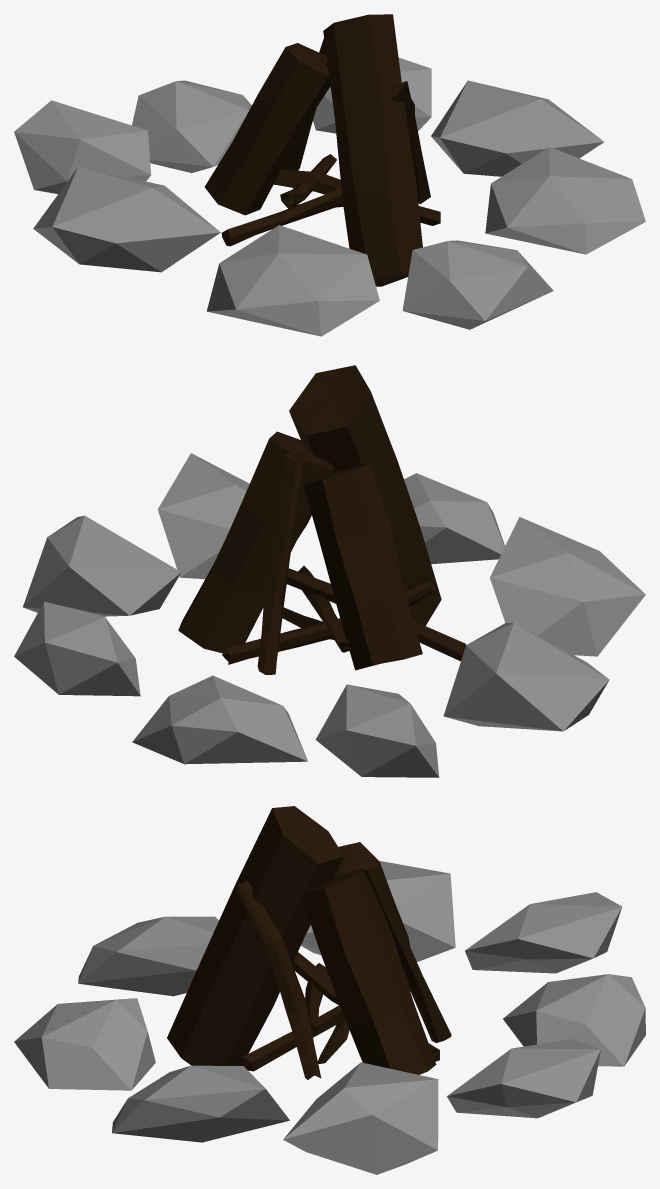
The model's file is camp_fire.glb.
3 renders of one model, top to bottom at view 1: azimuth 30°, elevation 25°; view 2: azimuth 150°, elevation 25°; view 3: azimuth 270°, elevation 25°, orthographic. The views are drawn at different scales.
Parts seen in each view (by area): view 1: camp_fire_stones, camp_fire_wood_big, camp_fire_wood_small; view 2: camp_fire_stones, camp_fire_wood_big, camp_fire_wood_small; view 3: camp_fire_stones, camp_fire_wood_big, camp_fire_wood_small.
Part boxes in pixels (<box>): camp_fire_stones: <box>14,57,645,336</box>; camp_fire_wood_big: <box>205,14,422,286</box>; camp_fire_wood_small: <box>221,38,440,246</box>; camp_fire_stones: <box>14,453,645,777</box>; camp_fire_wood_big: <box>178,365,441,670</box>; camp_fire_wood_small: <box>222,452,465,674</box>; camp_fire_stones: <box>14,861,645,1174</box>; camp_fire_wood_big: <box>167,806,436,1074</box>; camp_fire_wood_small: <box>235,862,451,1079</box>.
Size of the model in its own units: 2.57 by 1.24 by 2.55.
